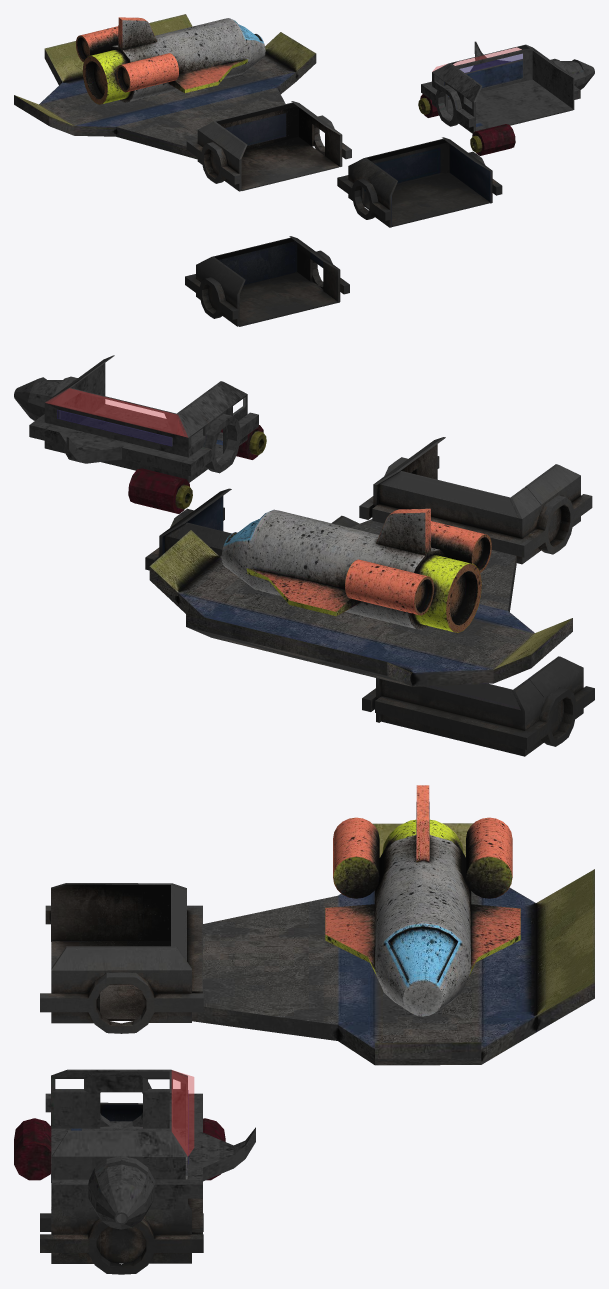
3 renders of one model, top to bottom at view 1: azimuth 30°, elevation 25°; view 2: azimuth 150°, elevation 25°; view 3: azimuth 270°, elevation 25°, orthographic. The views are drawn at different scales.
Visible parts, largest first — view 1: polySurface18, pasted__pasted__polySurface90, pCylinder16, polySurface16, pCylinder15, pCylinder13, polySurface13; view 2: polySurface18, pasted__pasted__polySurface90, pCylinder13, pCylinder16, polySurface16, pCylinder15, pCube1, polySurface13, pCube2; view 3: polySurface18, pasted__pasted__polySurface90, pCylinder13, polySurface16, pCylinder15, pCube1, pCylinder16, polySurface13.
Part boxes in pixels (<box>): polySurface18: <box>14,14,316,159</box>; pasted__pasted__polySurface90: <box>76,17,265,104</box>; pCylinder16: <box>185,236,349,326</box>; polySurface16: <box>186,101,351,191</box>; pCylinder15: <box>337,137,502,227</box>; pCylinder13: <box>418,41,594,155</box>; polySurface13: <box>448,79,573,130</box>; polySurface18: <box>149,519,572,686</box>; pasted__pasted__polySurface90: <box>221,508,491,632</box>; pCylinder13: <box>14,355,266,513</box>; pCylinder16: <box>362,656,594,756</box>; polySurface16: <box>359,437,592,564</box>; pCylinder15: <box>145,488,359,570</box>; pCube1: <box>45,388,187,437</box>; polySurface13: <box>79,404,222,458</box>; pCube2: <box>57,410,172,446</box>; polySurface18: <box>192,823,594,1065</box>; pasted__pasted__polySurface90: <box>325,785,520,1016</box>; pCylinder13: <box>14,1069,255,1229</box>; polySurface16: <box>40,883,203,1033</box>; pCylinder15: <box>40,1173,203,1274</box>; pCube1: <box>172,1070,193,1155</box>; pCylinder16: <box>40,1102,203,1231</box>; polySurface13: <box>51,1128,185,1208</box>.
Bounding box in the file's own units: 121 × 56.65 × 78.98.
8 materials, 6 textured.
